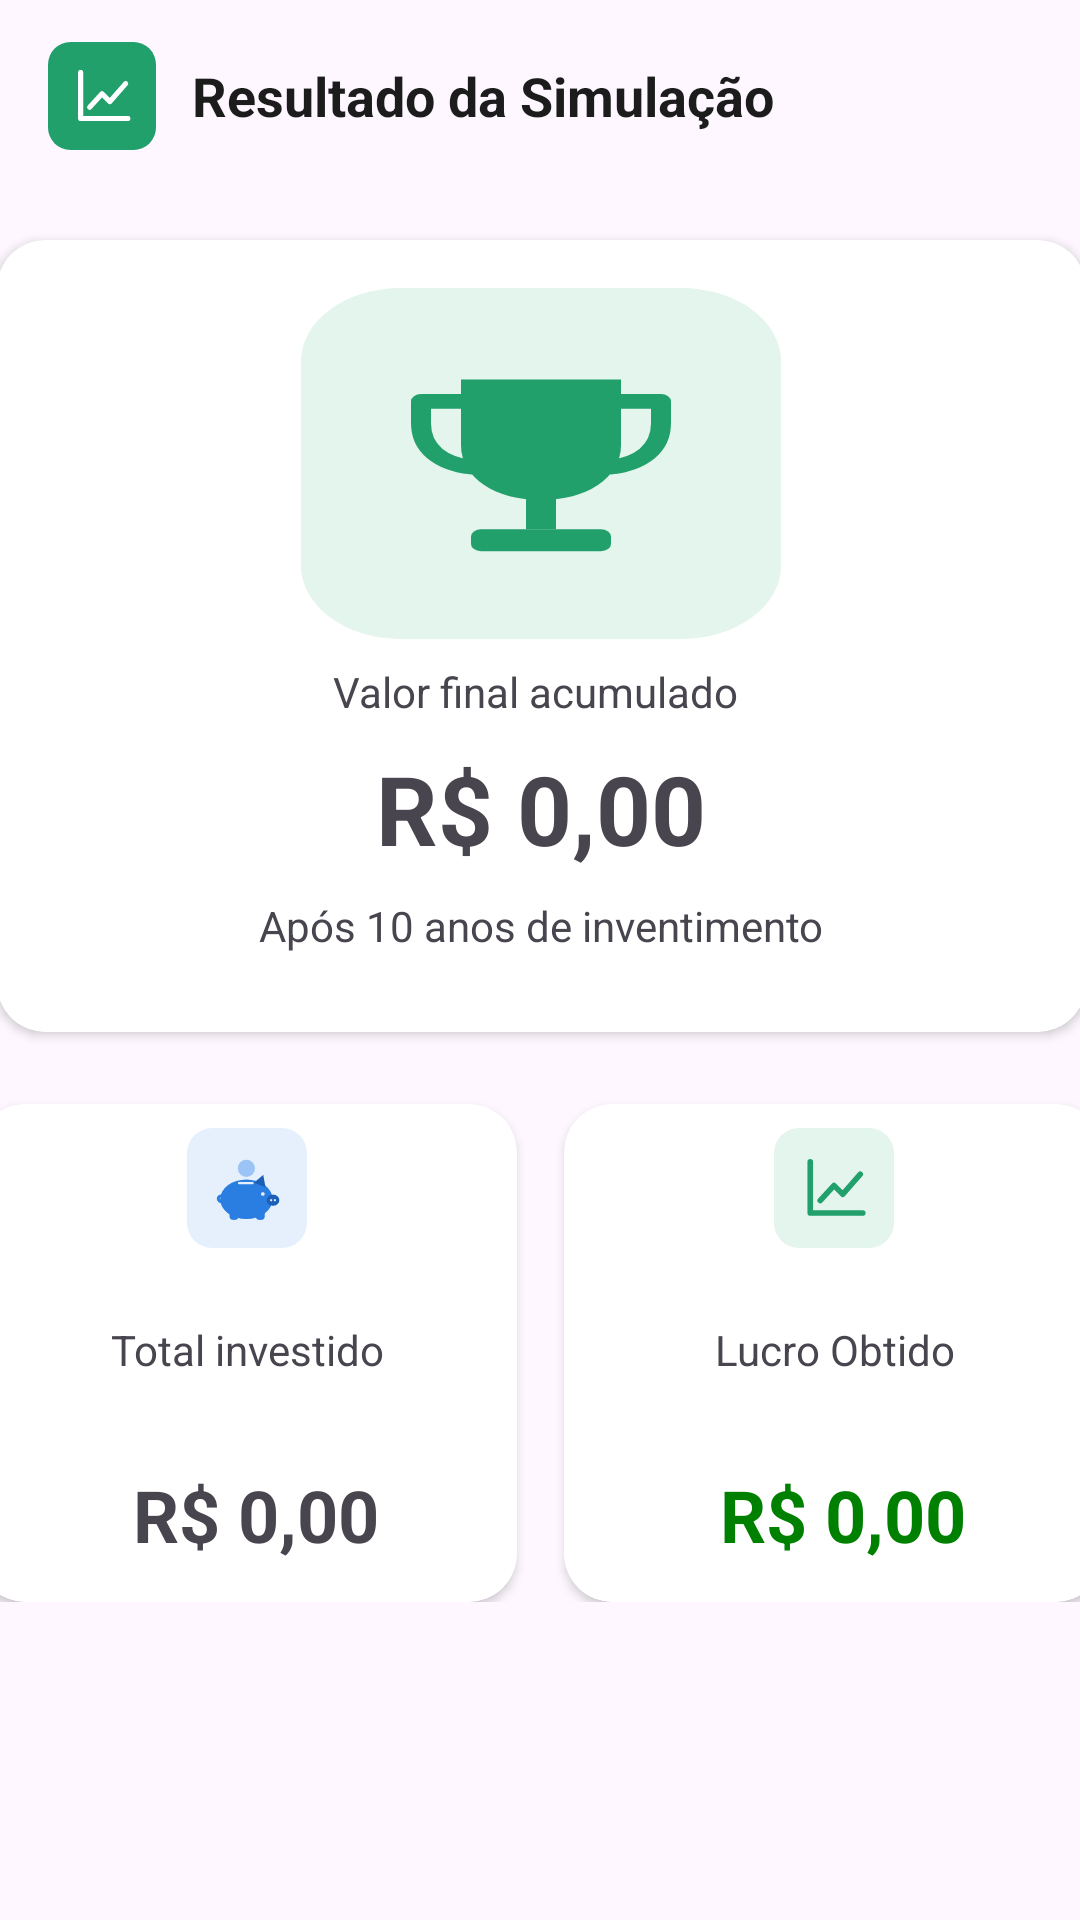

Icon click points for this 1080 x 1920 phone screenshot, format [x,y]:
grafico solido: [102,96]
